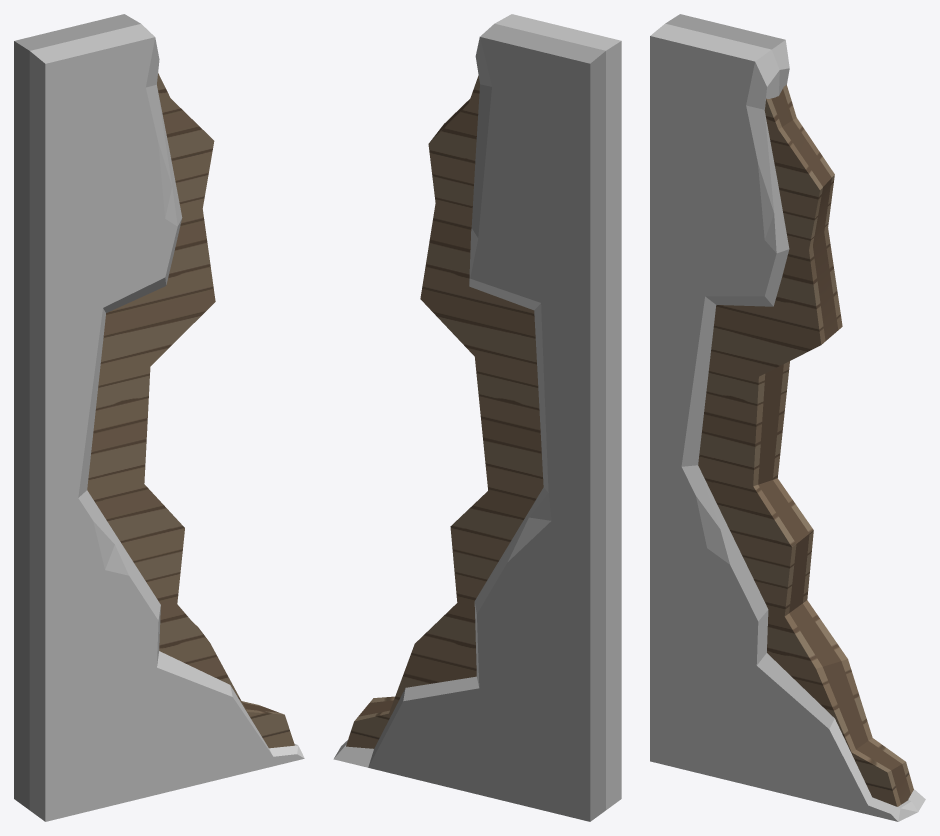
Rendered from SM_Bld_Wall_Hole_04.fbx.
3 renders of one model, left to right at view 1: azimuth 30°, elevation 25°; view 2: azimuth 150°, elevation 25°; view 3: azimuth 330°, elevation 25°, orthographic. The views are drawn at different scales.
Visible parts, largest first — view 1: SM_Bld_Wall_Hole_04; view 2: SM_Bld_Wall_Hole_04; view 3: SM_Bld_Wall_Hole_04.
Part boxes in pixels (box(x1,y1,x2,y2)): SM_Bld_Wall_Hole_04: box(14, 14, 304, 821); SM_Bld_Wall_Hole_04: box(333, 14, 621, 821); SM_Bld_Wall_Hole_04: box(650, 14, 925, 821).
Size of the model in its own units: 110 by 301 by 22.5.
